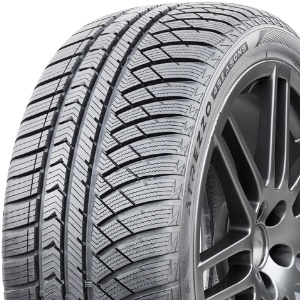train: (2, 1, 300, 288)
